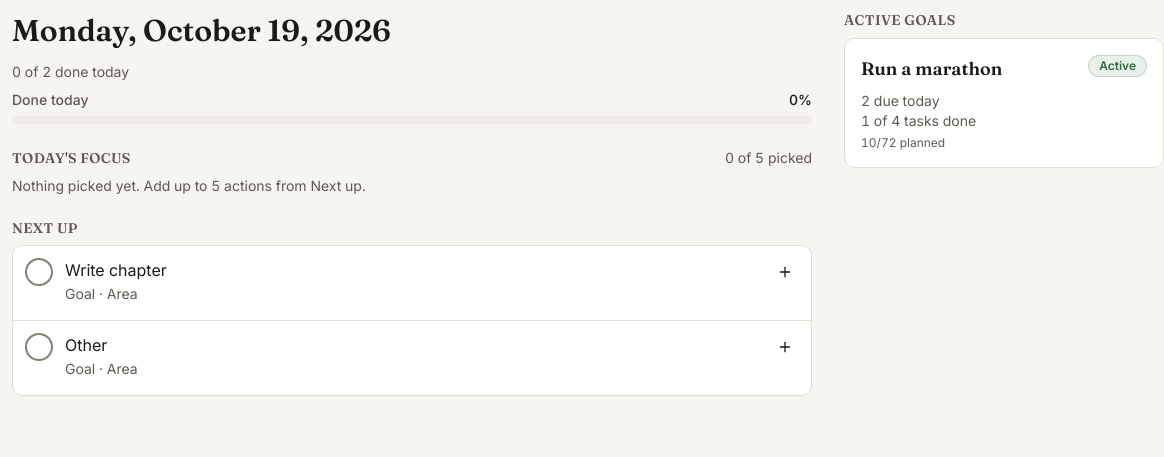
Test: TodayView › rolls back with the UNAVAILABLE message
The width and height of the screenshot is (1164, 457).
Click the button named "Complete: Write chapter" at [39, 272], box [17,250,61,294]
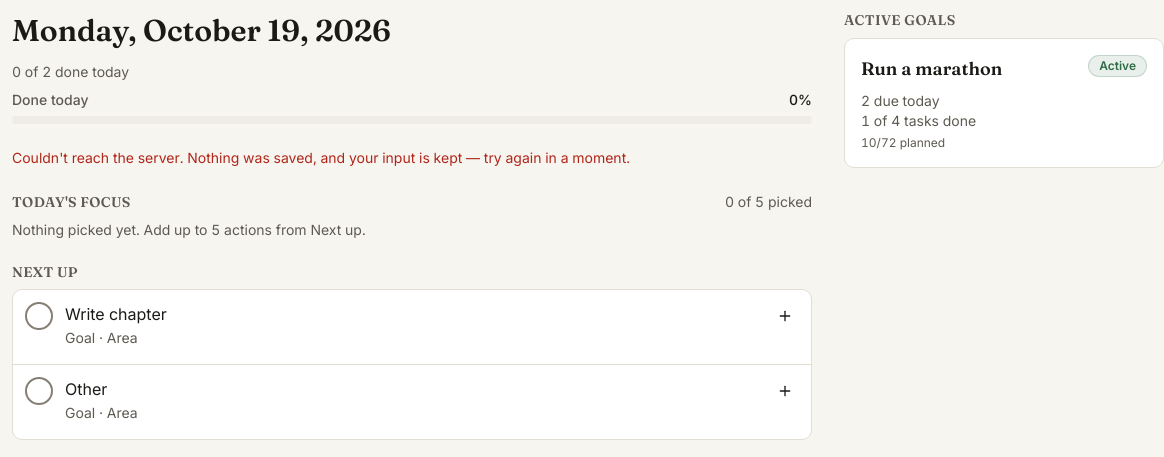
Expected: the text "Write chapter" is shown, [65,304,167,324]
Expected: the message shows "Couldn't reach the server", [12,148,630,166]
